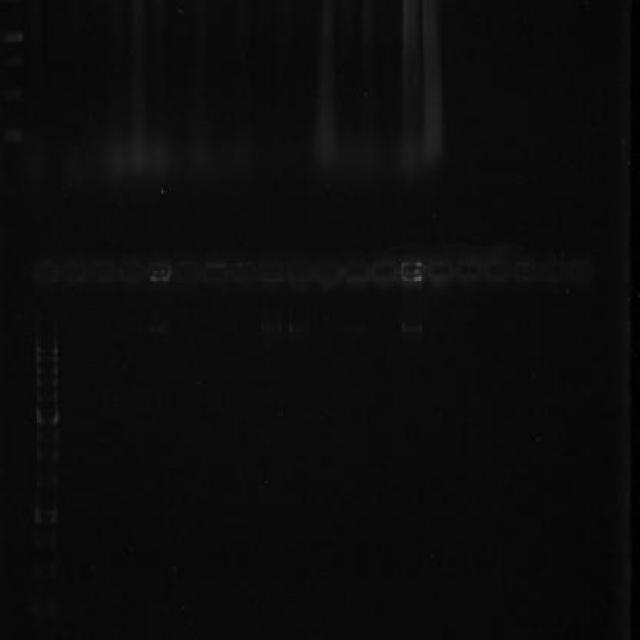L: (22, 240, 606, 300)
M: (26, 338, 65, 538)
P: (32, 504, 58, 530), (33, 472, 59, 494), (34, 443, 58, 462), (35, 408, 60, 426), (34, 390, 60, 404), (36, 428, 59, 443), (34, 364, 58, 376), (36, 376, 58, 389), (36, 355, 58, 363), (36, 345, 58, 353)
Pc: (566, 250, 597, 288), (482, 250, 512, 288), (31, 253, 60, 292), (370, 254, 398, 292), (229, 253, 257, 290), (88, 252, 116, 288), (116, 252, 144, 288), (426, 252, 454, 288), (454, 252, 482, 288), (342, 253, 369, 290), (200, 254, 229, 288), (257, 254, 286, 288), (60, 253, 86, 290), (287, 253, 313, 290), (172, 256, 200, 290), (314, 254, 342, 288), (538, 254, 566, 288), (144, 255, 172, 288), (512, 251, 537, 287), (398, 254, 426, 286)
